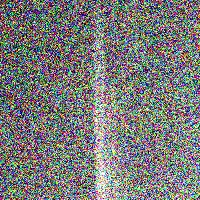scratches: (93, 32, 120, 199)
